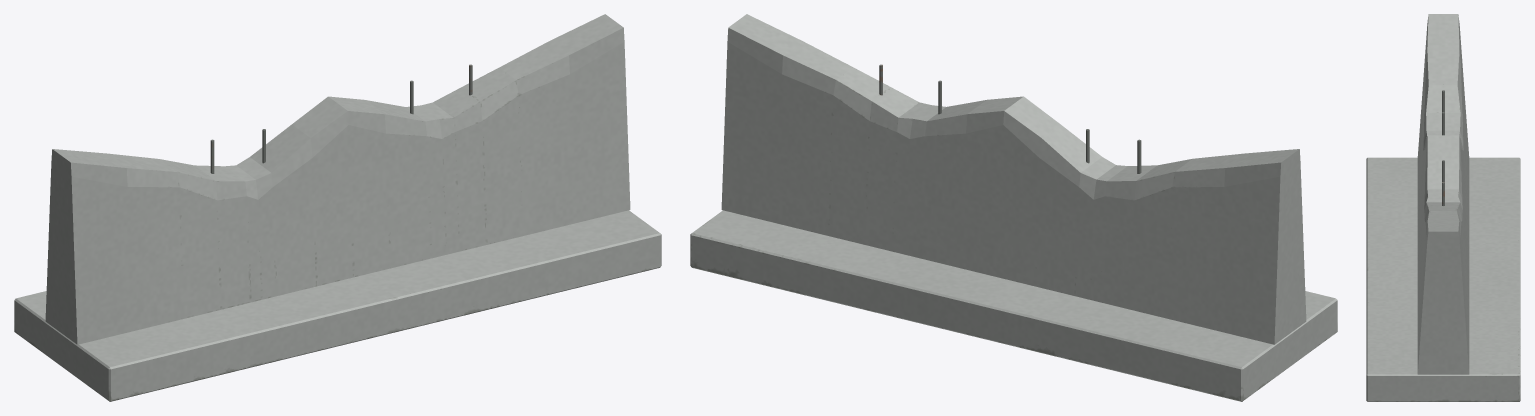
The model's file is hills_broken_retaining_wall_low.glb.
The picture shows the model from 3 angles, left to right: view 1: azimuth 30°, elevation 25°; view 2: azimuth 150°, elevation 25°; view 3: azimuth 270°, elevation 25°; orthographic projection. The views are drawn at different scales.
Parts seen in each view (by area): view 1: WallLow; view 2: WallLow; view 3: WallLow.
Part boxes in pixels (<box>): WallLow: <box>14,14,661,401</box>; WallLow: <box>690,14,1337,401</box>; WallLow: <box>1366,14,1520,401</box>.
Size of what is drawn, in the model's own units: 3 by 1.1 by 0.9.
1 material, 1 textured.
